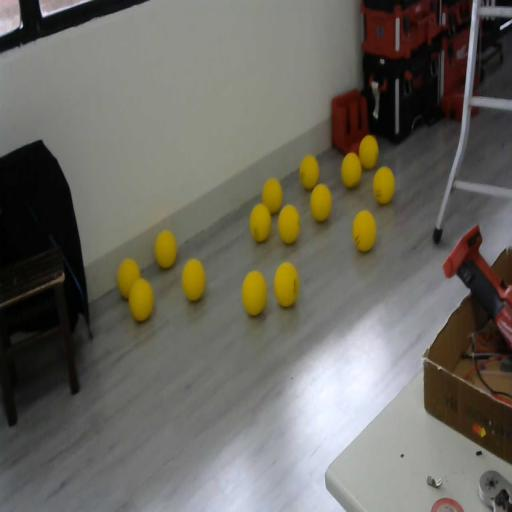FUEL: (240, 269, 268, 317), (128, 276, 154, 323), (181, 257, 206, 303), (352, 208, 376, 254), (274, 262, 298, 307), (277, 203, 301, 245), (154, 230, 178, 270), (249, 202, 272, 243), (261, 176, 283, 216), (310, 182, 332, 222), (372, 166, 395, 204), (340, 151, 362, 189), (358, 134, 379, 169), (299, 155, 319, 190)
